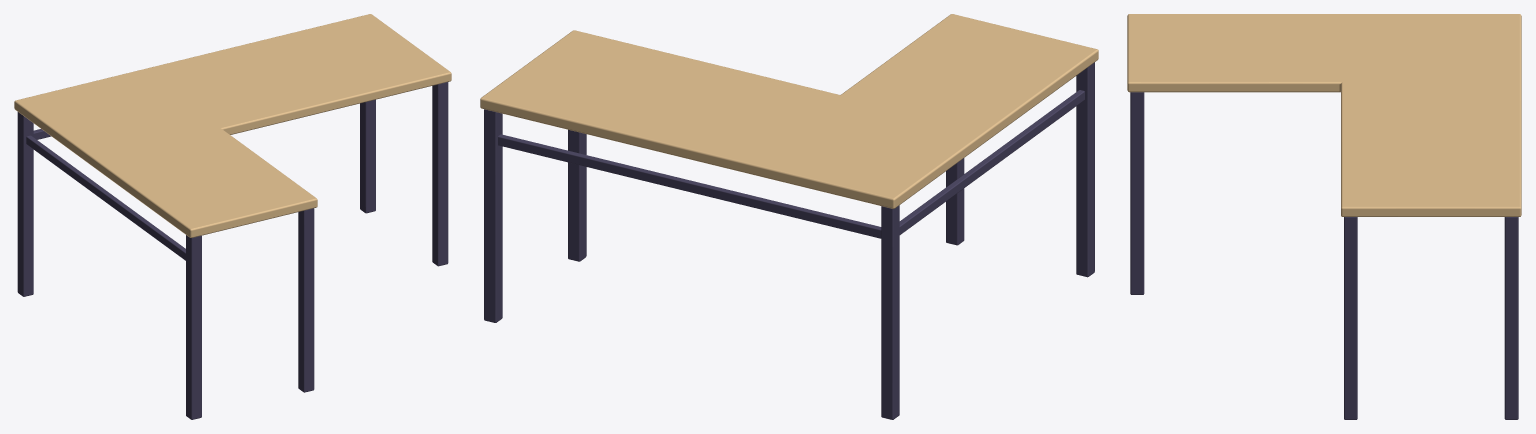
The model's file is desk_l_left.glb.
3 views of the same model, side by side, from view 1: azimuth 30°, elevation 25°; view 2: azimuth 150°, elevation 25°; view 3: azimuth 270°, elevation 25° (orthographic). The views are drawn at different scales.
Visible parts, largest first — view 1: desk_l_left; view 2: desk_l_left; view 3: desk_l_left.
Part boxes in pixels (left/top/right/bottom): desk_l_left: left=14, top=14, right=451, bottom=419; desk_l_left: left=480, top=14, right=1098, bottom=419; desk_l_left: left=1127, top=14, right=1521, bottom=419.
Bounding box in the file's own units: 1.4 × 0.72 × 1.2.
